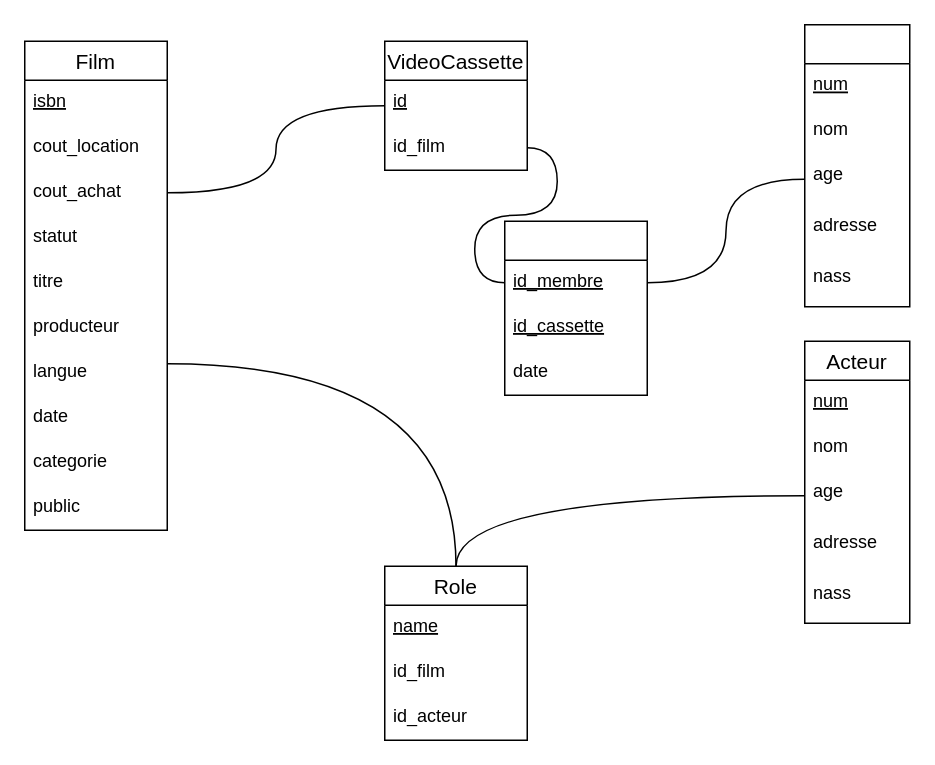
Image size: 935x765. Some labels were removed from this diagram. The box of each missing label's shape, as (x1, y1, x2, y2) in pixels:
Location: (503, 220, 647, 395)
Membre: (803, 23, 910, 307)
